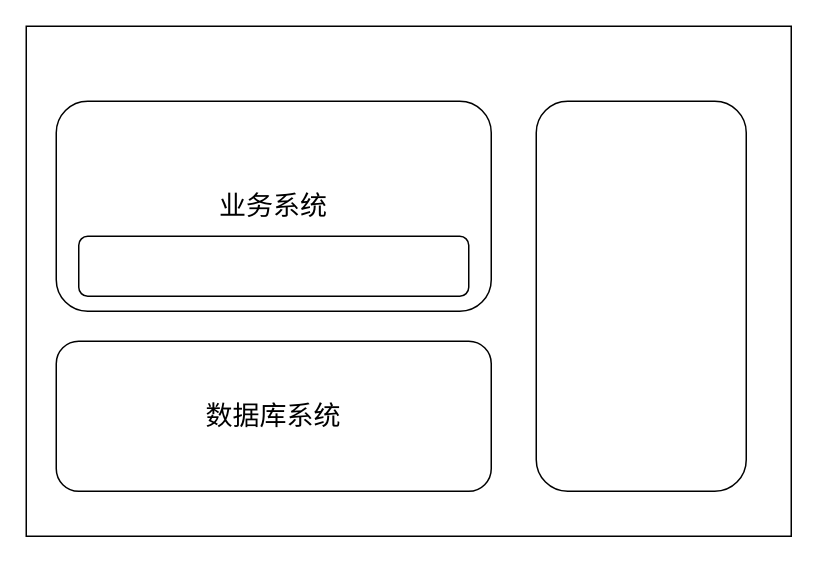
The diagram is 818 pixels wide and 563 high, and some of its shapes have lost their labels. Each missing label, with the centre of its shape:
"脱敏代理" goes at pixel 273 265.
"脱敏平台" goes at pixel 640 295.
